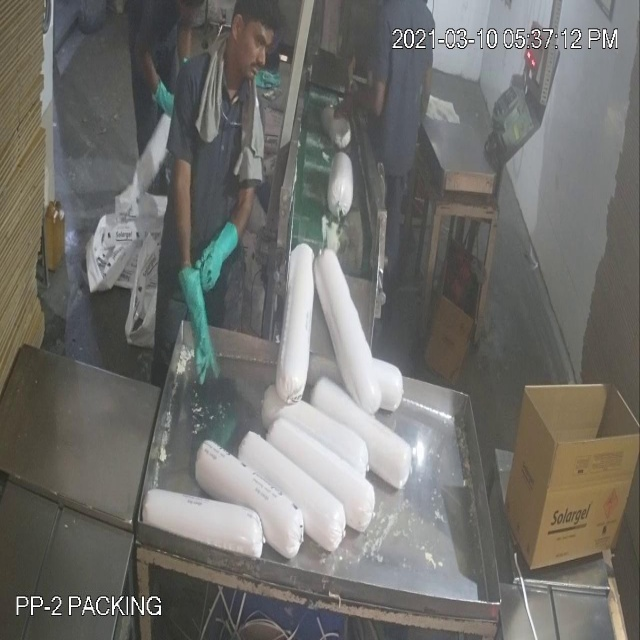Guantes: (170, 251, 223, 390), (198, 211, 241, 301)
Sin_guantes: (332, 56, 385, 128)
